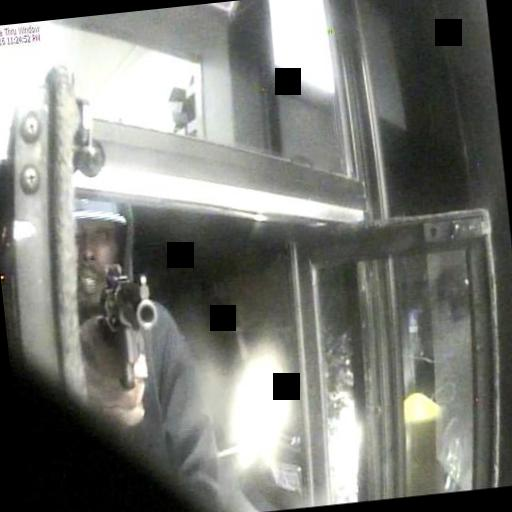Handgun: (96, 256, 162, 393)
